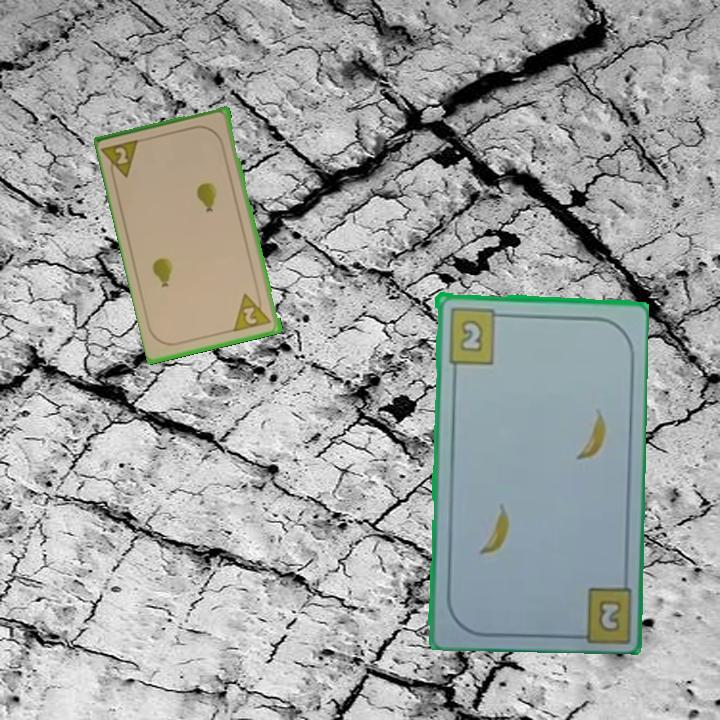2b: (567, 580, 633, 641), (445, 304, 507, 366)
2p: (100, 136, 144, 183), (231, 288, 275, 334)
